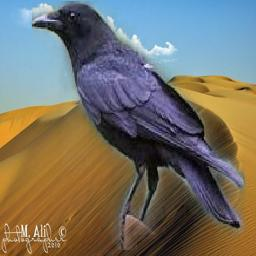Crow: (33, 2, 246, 251)
